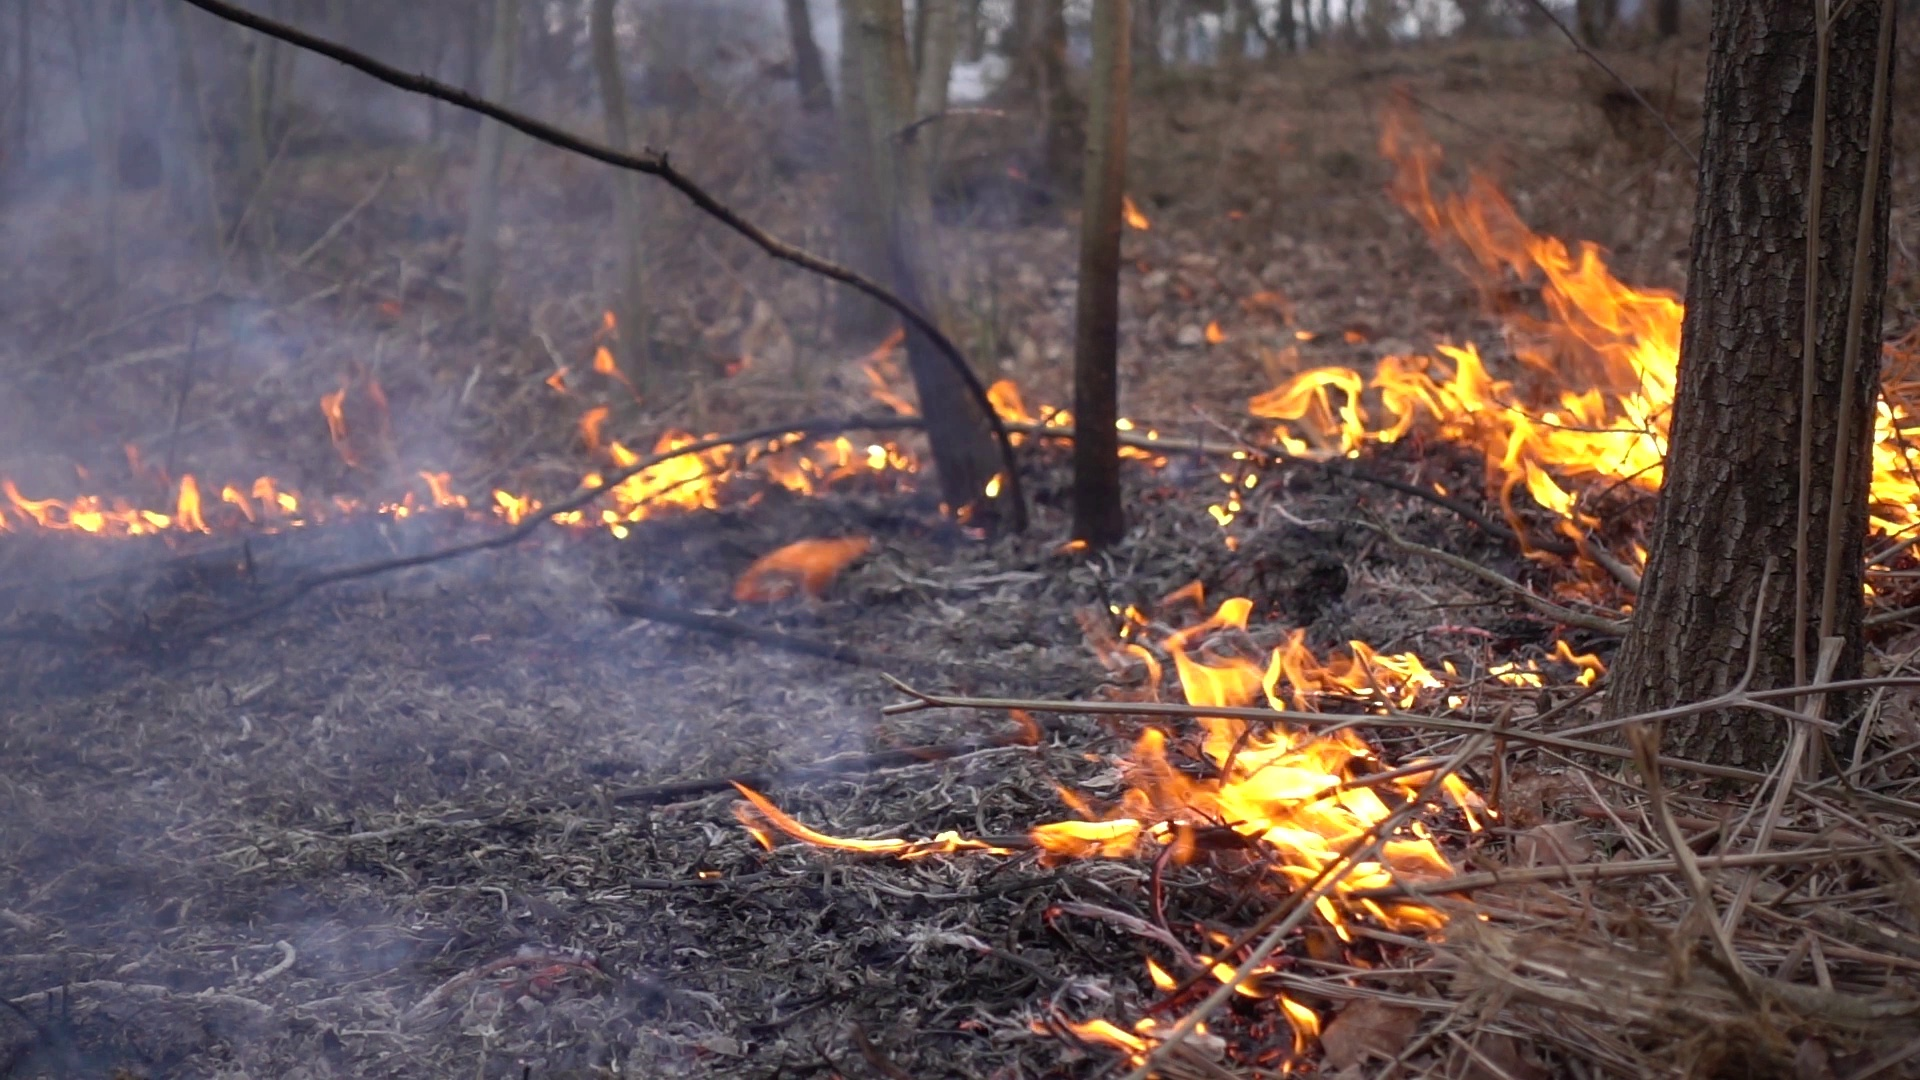fire: (1014, 603, 1485, 942), (1261, 216, 1687, 498), (611, 434, 727, 513), (1870, 397, 1917, 535), (11, 491, 154, 534), (173, 473, 204, 535), (488, 485, 530, 531)
